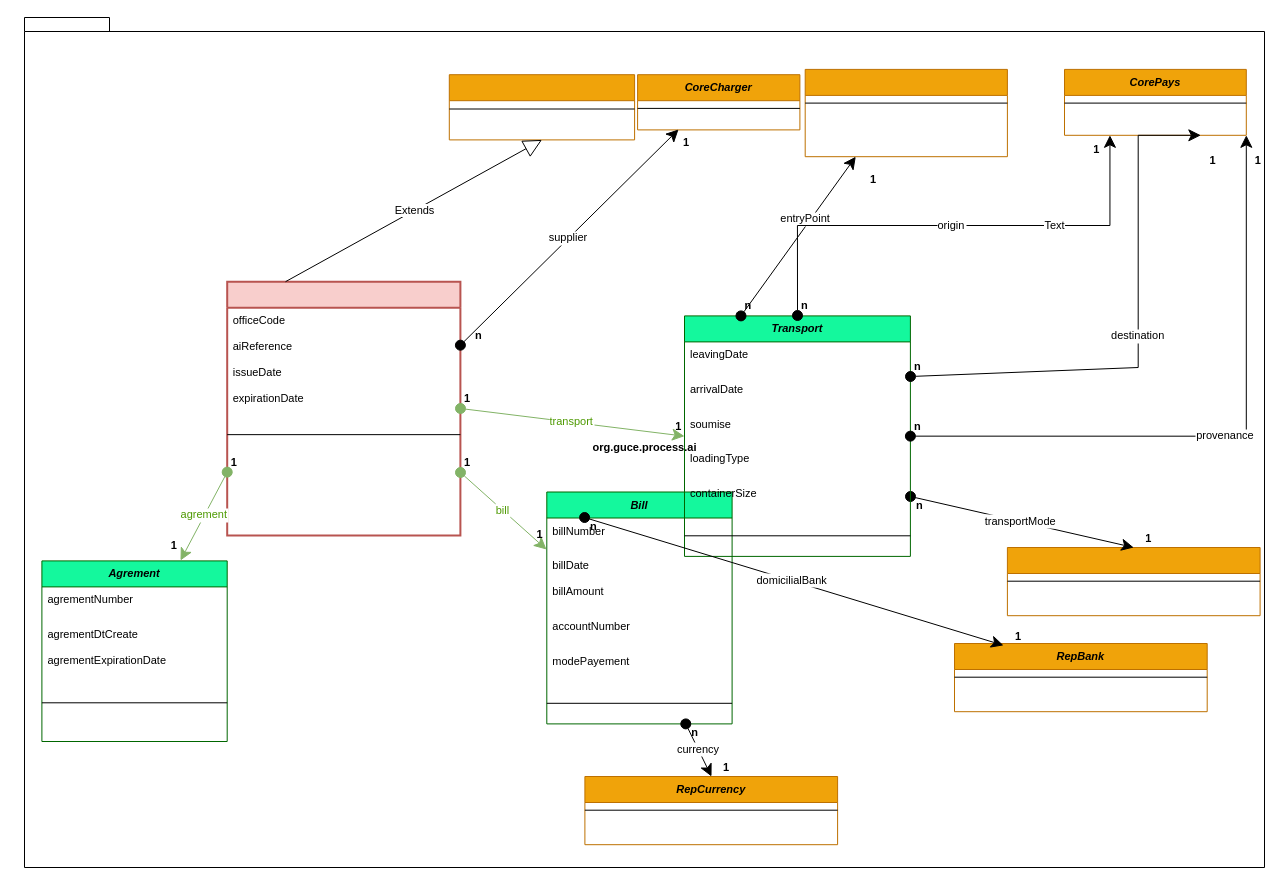
This 1282x885 diagram has some shape labels left out. The box of each missing label's shape, as (x1, y1, x2, y2) in pixels:
AIRegistration: (226, 280, 461, 536)
CoreRecord: (448, 74, 635, 140)
RepCustomsOffice: (804, 68, 1007, 157)
RepTransportMode: (1006, 546, 1260, 616)
